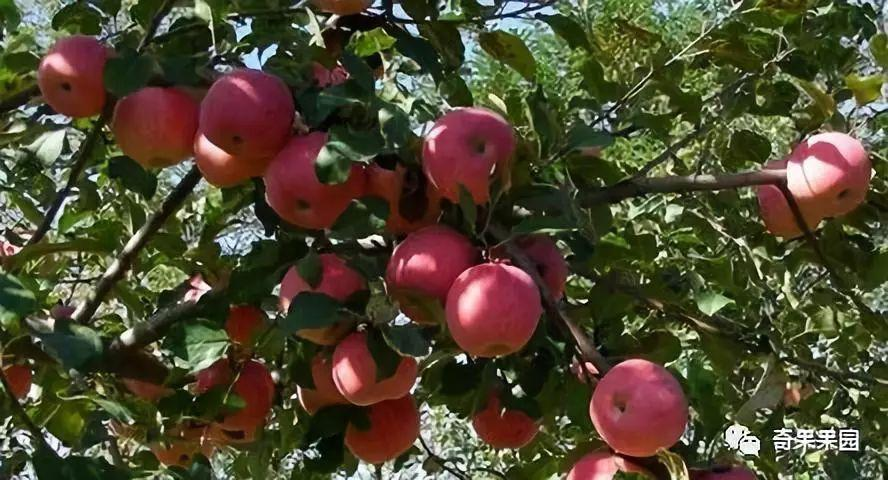apple: (587, 356, 689, 456), (264, 130, 366, 228), (422, 105, 515, 203), (444, 260, 539, 354), (390, 226, 478, 318), (200, 71, 293, 153), (110, 88, 197, 172), (280, 252, 362, 341), (785, 132, 871, 216), (333, 326, 419, 404), (36, 37, 112, 116), (342, 394, 418, 463), (757, 163, 820, 234)
